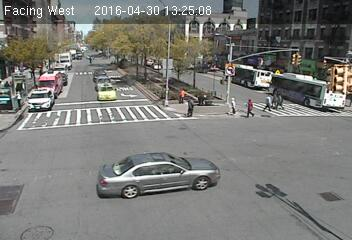neg: (244, 154, 288, 213), (165, 123, 202, 173), (312, 50, 338, 84), (109, 4, 134, 36), (121, 68, 140, 94), (43, 4, 60, 27), (136, 94, 150, 112), (255, 21, 267, 37), (113, 59, 118, 66)
